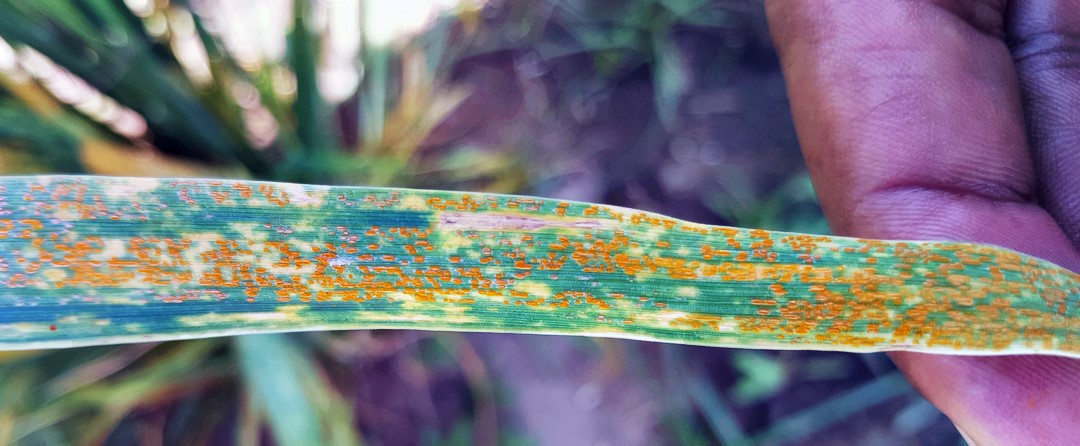Leaf Rust: (28, 170, 950, 362)
